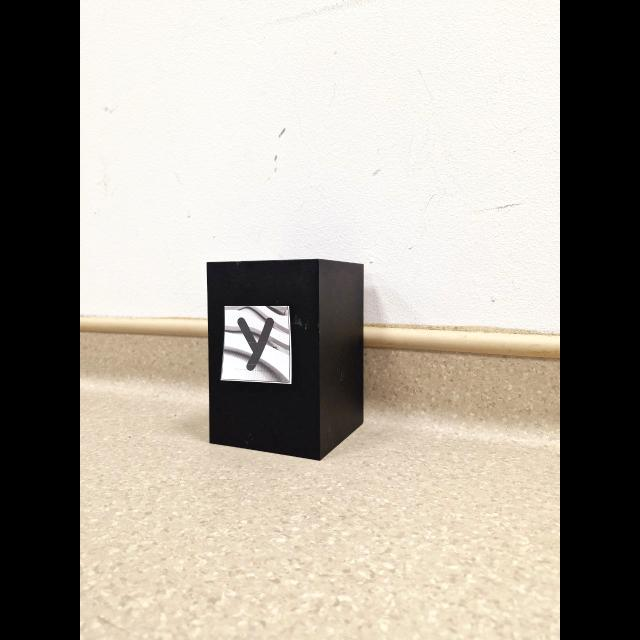Y: (238, 317, 274, 370)
